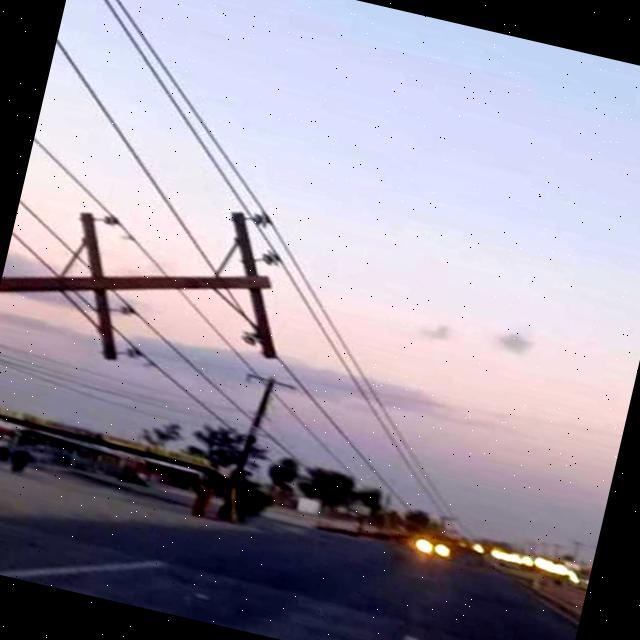Broken Pole: (2, 206, 294, 363)
